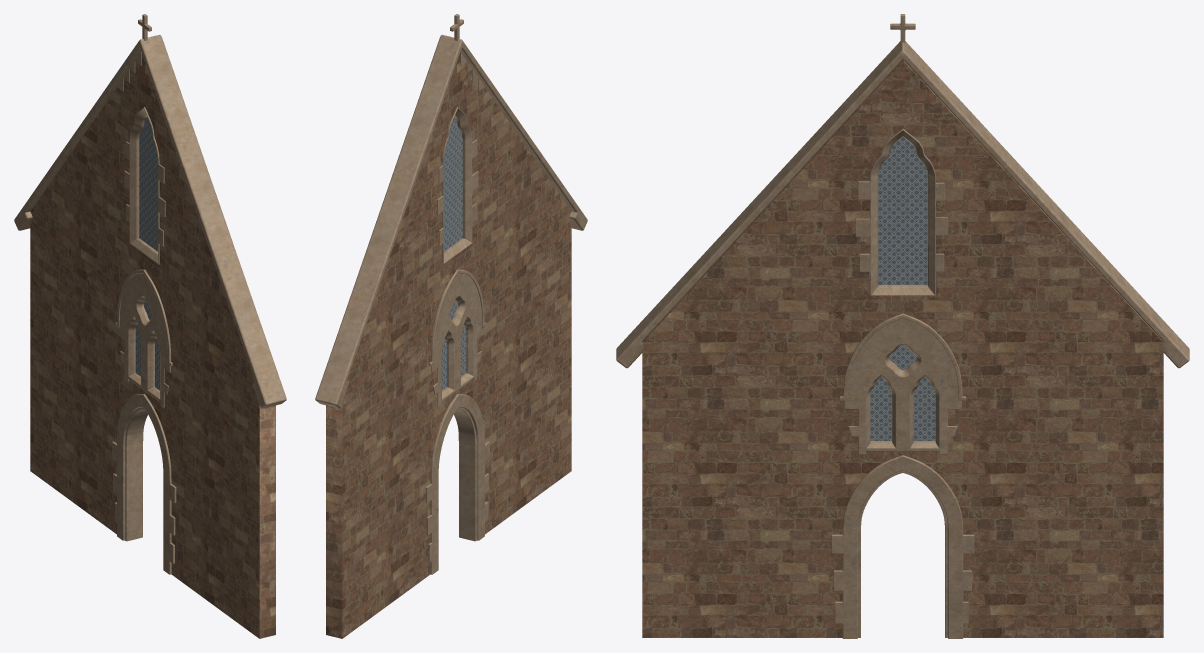
Rendered from SM_ChurchA.fbx.
3 renders of one model, left to right at view 1: azimuth 30°, elevation 25°; view 2: azimuth 150°, elevation 25°; view 3: azimuth 270°, elevation 25°, orthographic. The views are drawn at different scales.
Visible parts, largest first — view 1: SM_ChurchA_LOD0; view 2: SM_ChurchA_LOD0; view 3: SM_ChurchA_LOD0.
Part boxes in pixels (x1,y1,x2,y2): SM_ChurchA_LOD0: (14, 14, 286, 638); SM_ChurchA_LOD0: (315, 14, 587, 638); SM_ChurchA_LOD0: (616, 14, 1189, 638).
Bounding box in the file's own units: 43.3 × 792 × 936.
3 materials, 3 textured.
